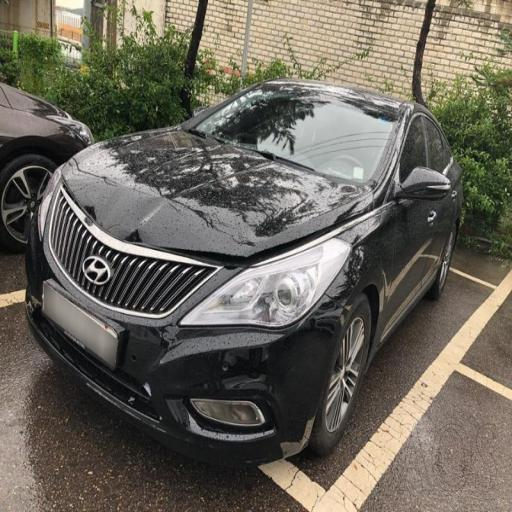broken: (115, 147, 343, 285)
scratch: (152, 315, 192, 365)
